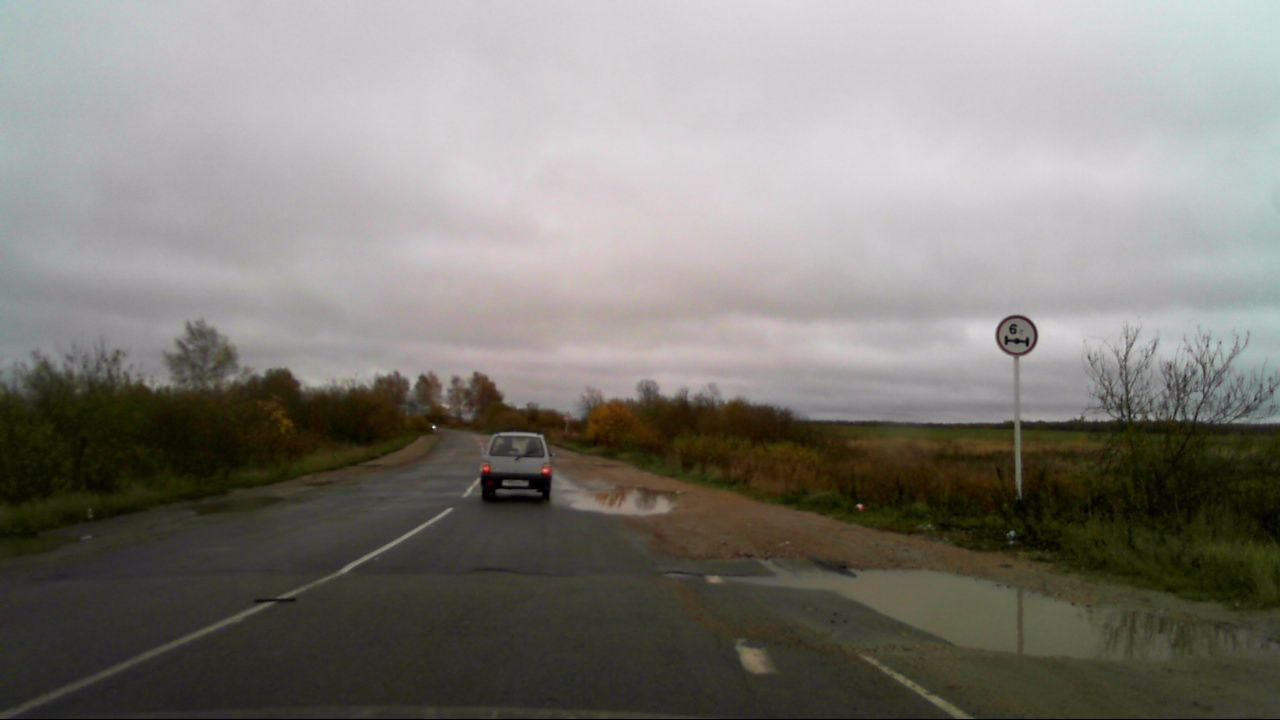3_12: (994, 313, 1039, 357)
